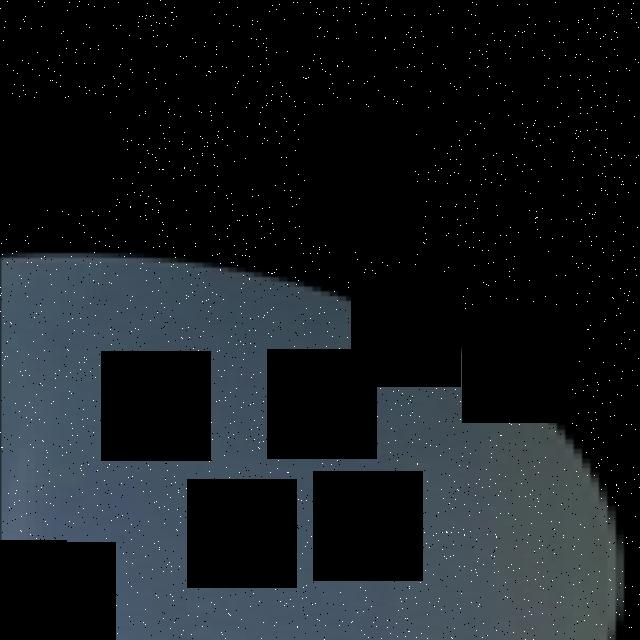Uranus: (0, 253, 632, 640)
